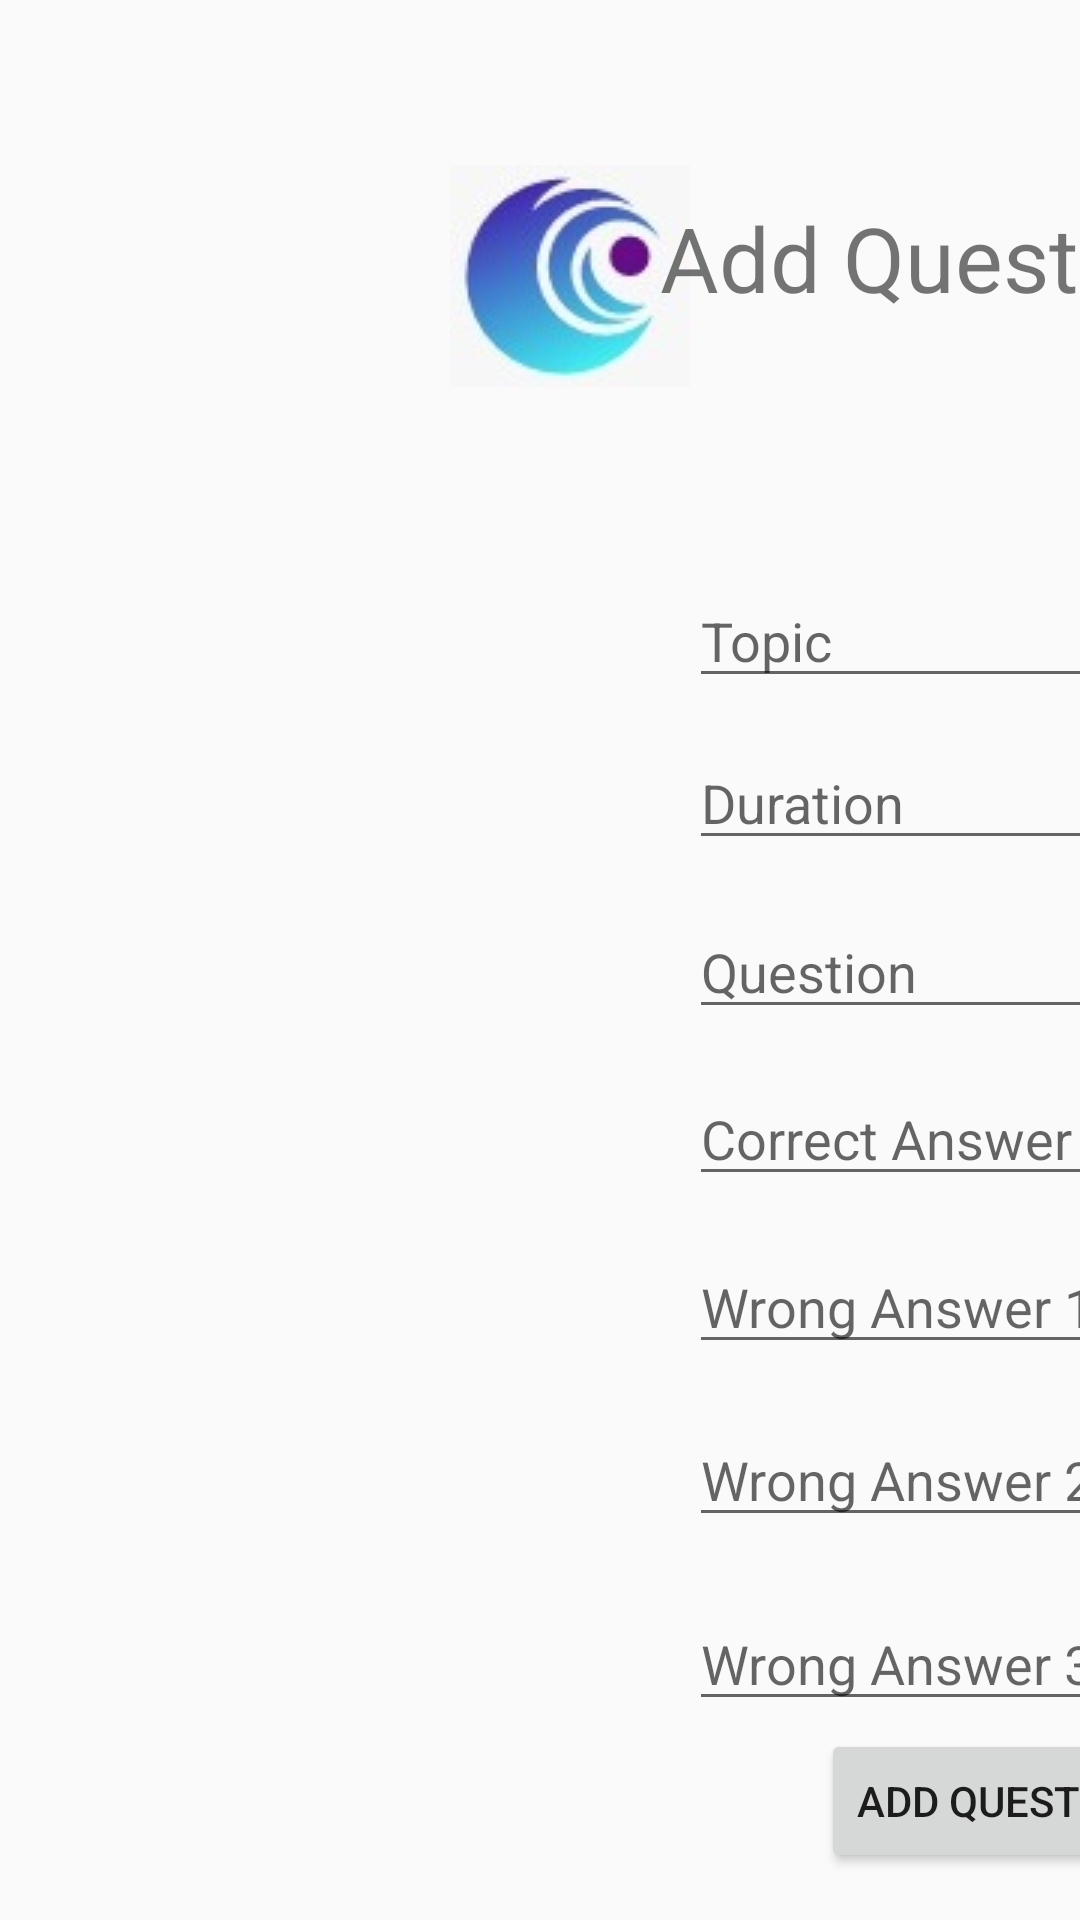

Icons on this 1080×1920 Android screen, each with its box as (x1, y1, x2, y2):
appicon: (464, 177, 659, 377)
